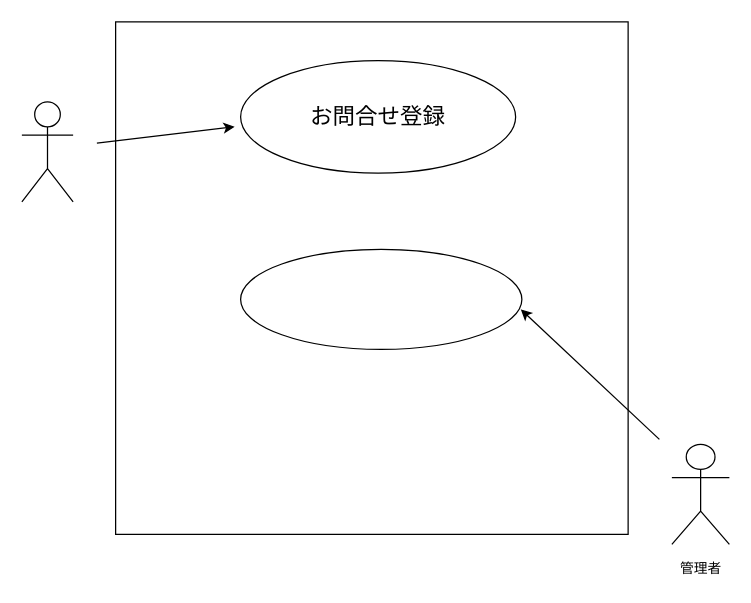
Image size: 751x603. Some labels were removed from this diagram. The shapes that lost their labels are listed below. From the top down, each one's centre as x and y in pixels, then its label:
point 47,151: user
point 380,298: ユーザーお問い合わせ管理
